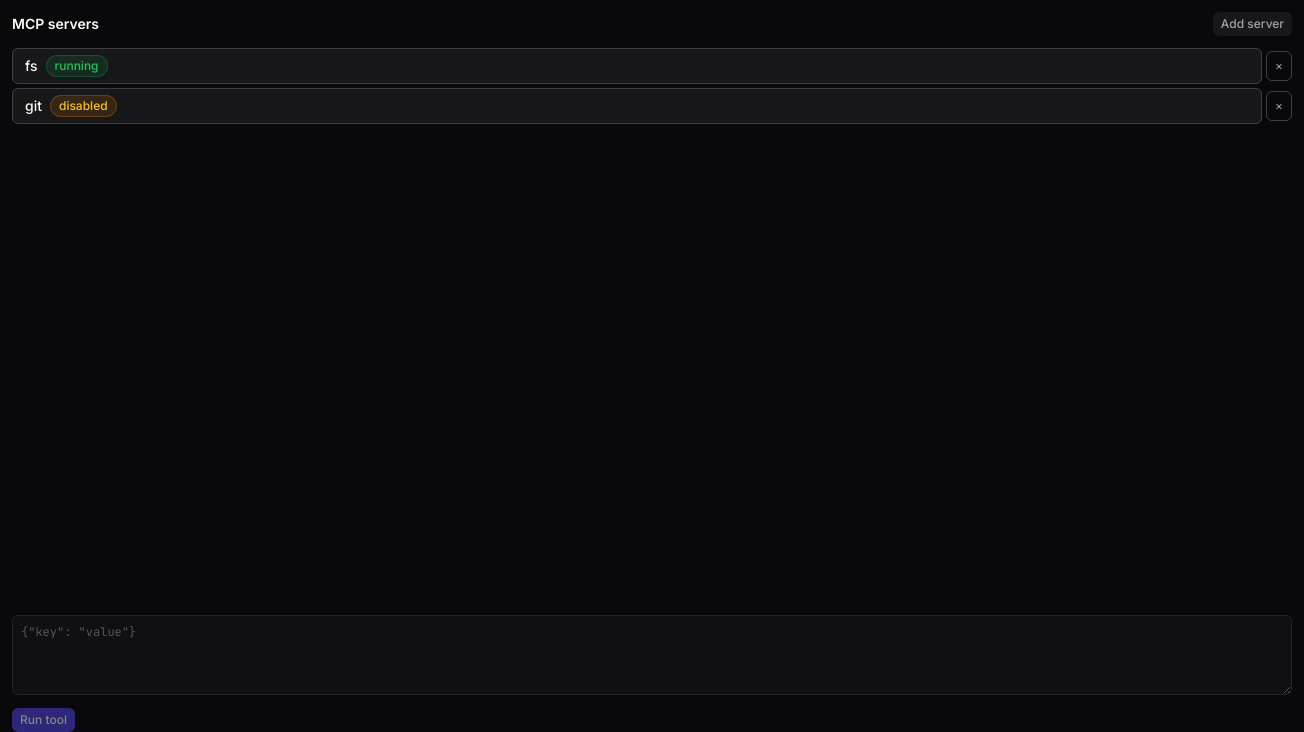
McpPlayground (Fase D + deny-by-default) › shows the backend detail (PT) on 403 and keeps the error visible
Click the button with test id "mcp-server" at [77, 66], box x1=12 y1=48 x2=1262 y2=84
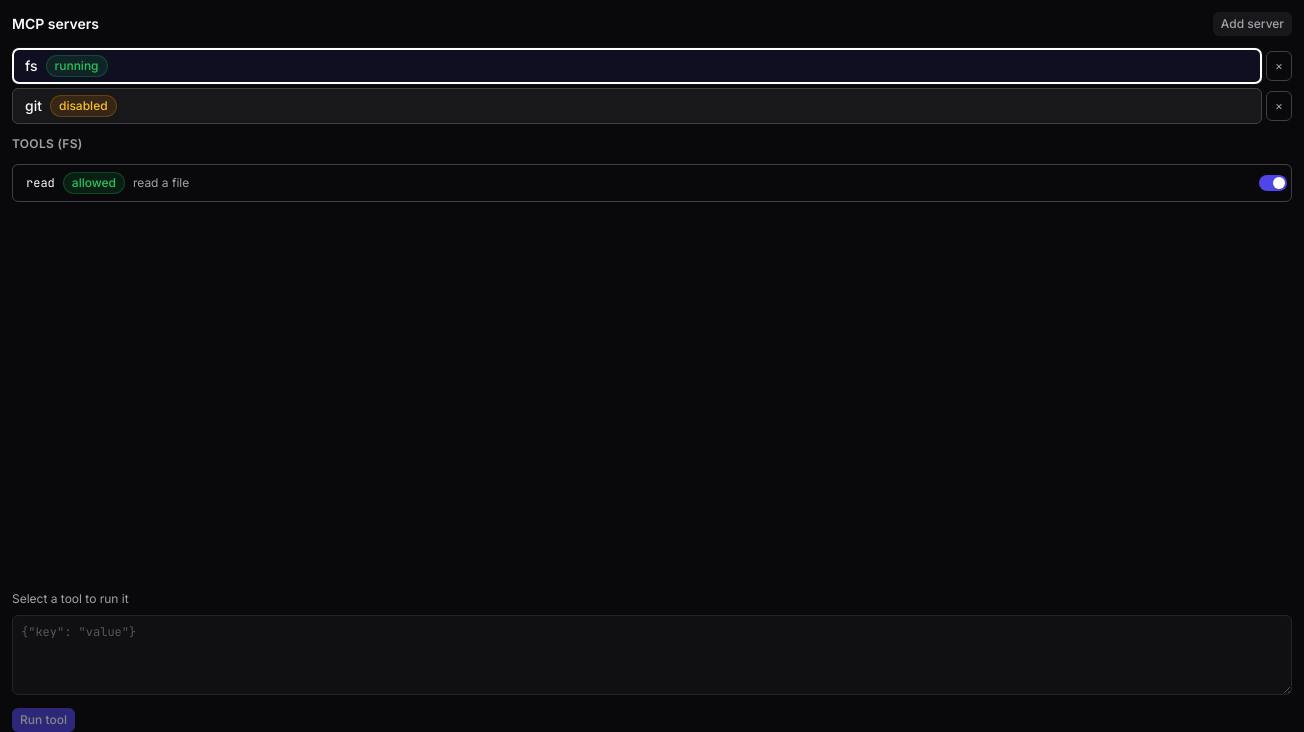
Check: the text "read" is shown, box x1=26 y1=175 x2=55 y2=191
Click the button with test id "mcp-tool" at [94, 183], box x1=13 y1=165 x2=1251 y2=201
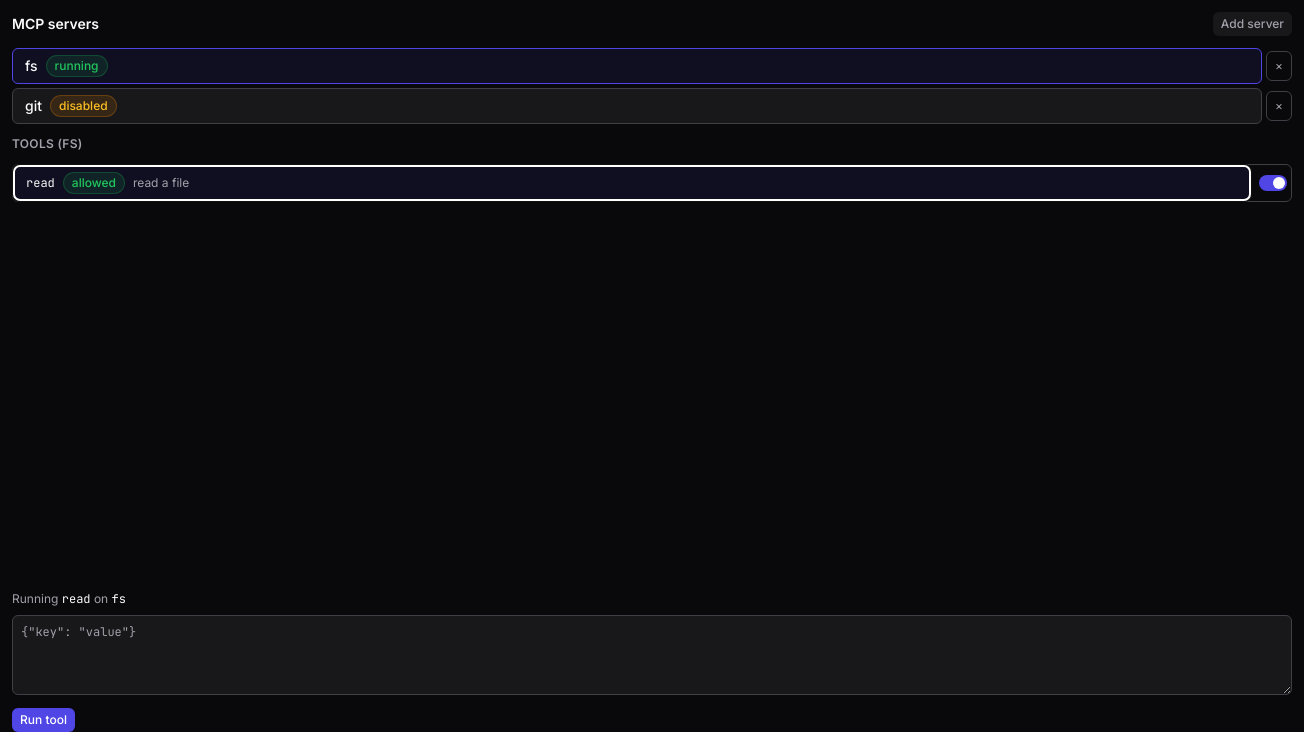
Click the button "Run tool" at [43, 720], box x1=12 y1=708 x2=75 y2=731
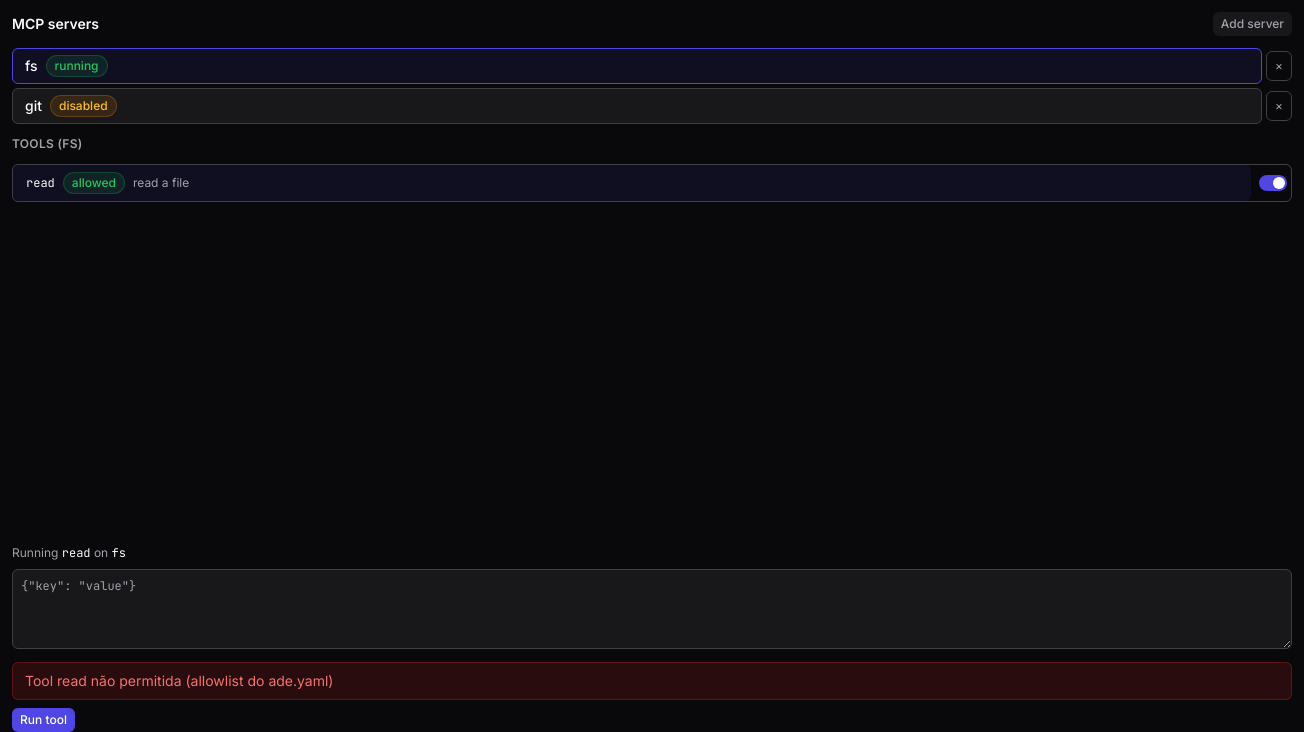
Check: the message shows "não permitida", box x1=25 y1=672 x2=334 y2=689
